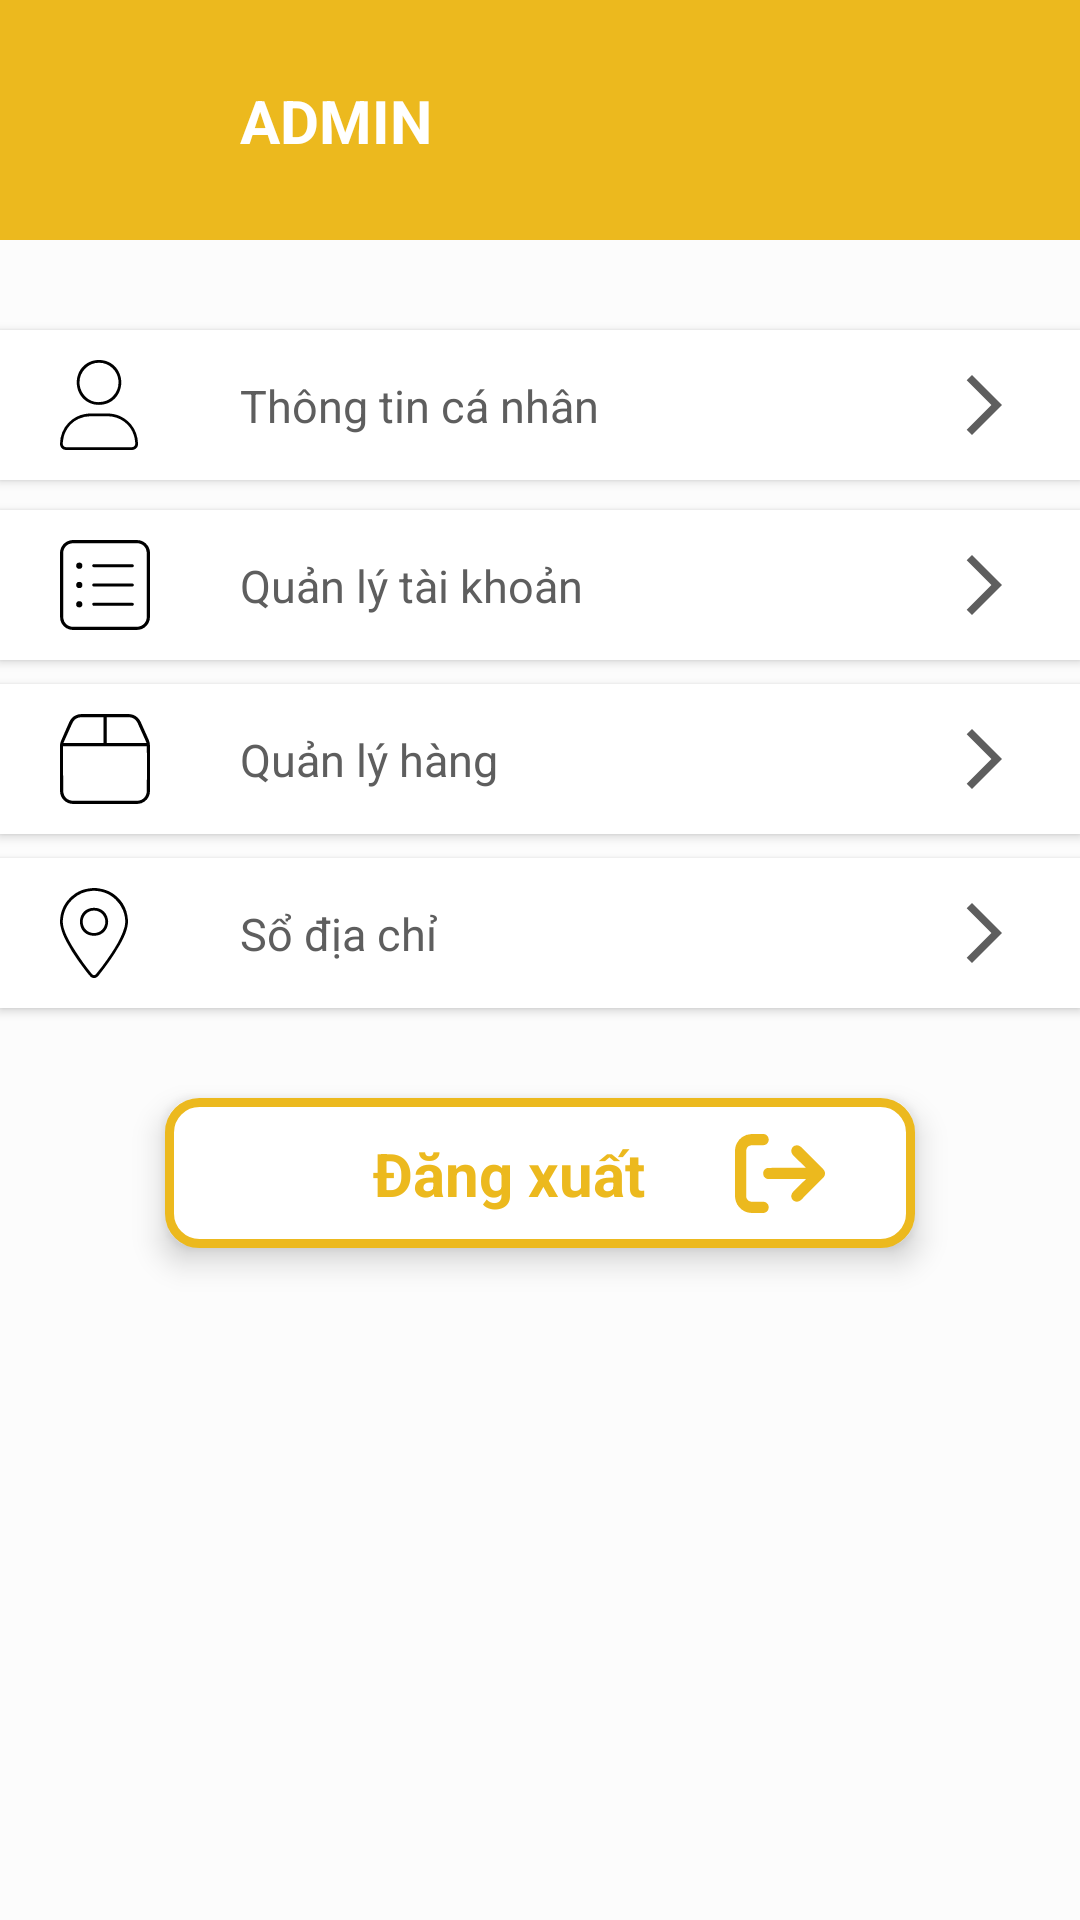

Named icons in this screenshot (1080 x 1920) and their bounding boxes, box(x1, y1, x2, y2):
arrow forward: box(967, 375, 1002, 435), box(967, 555, 1002, 615), box(967, 729, 1002, 789), box(967, 903, 1002, 963)
box: box(60, 714, 150, 804)
list: box(60, 540, 150, 630)
location: box(60, 888, 128, 978)
user: box(60, 360, 138, 450)
